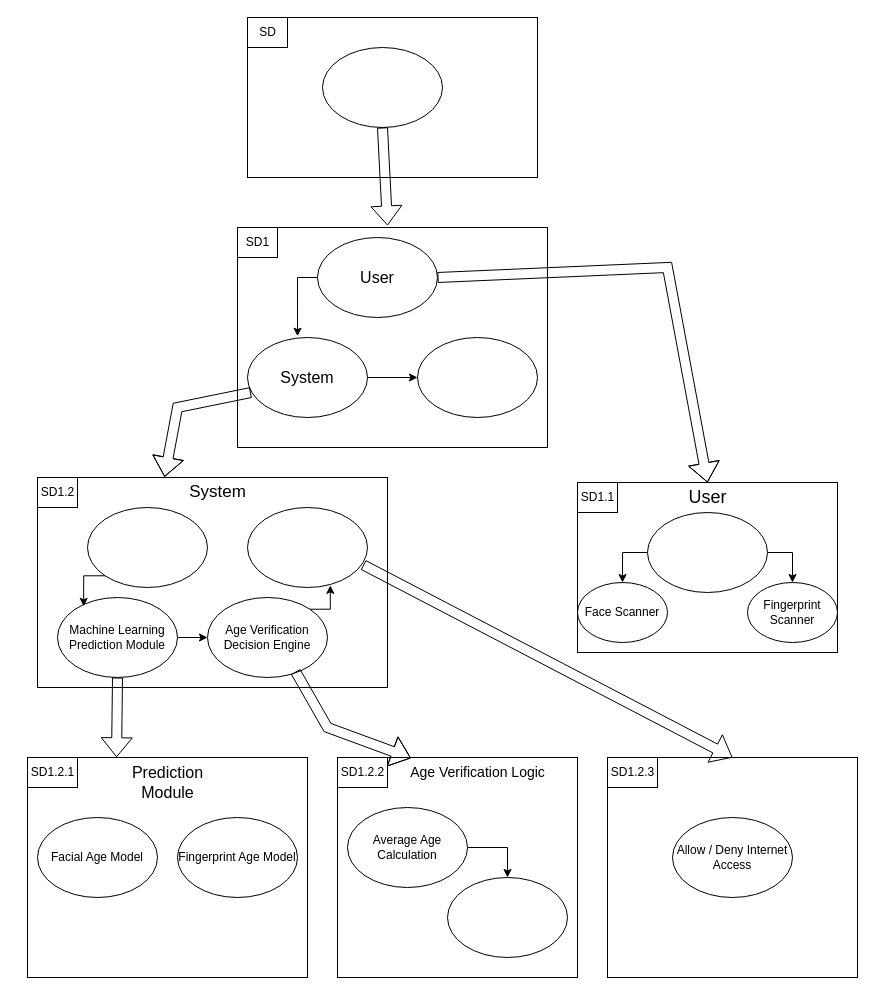
This 875x995 diagram has some shape labels left out. Here are the shapes that lost their labels. From the top down, the centre of each, then its label:
At (x=382, y=87): "Age Detection System".
At (x=477, y=377): "Internet Gateway".
At (x=147, y=547): "Data Preprocessing".
At (x=307, y=547): "Internet Access Control Module".
At (x=707, y=552): "Biometric Data Capture".
At (x=507, y=917): "Age Validation (>= Threshold)".
